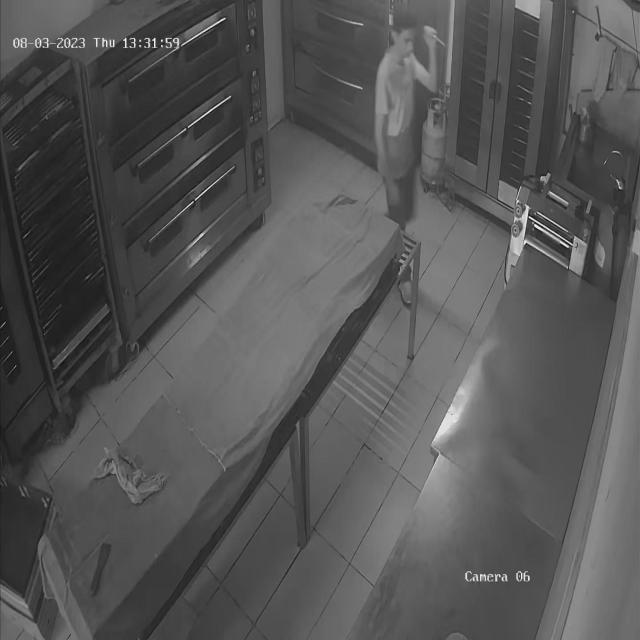Knife: (422, 20, 458, 58)
